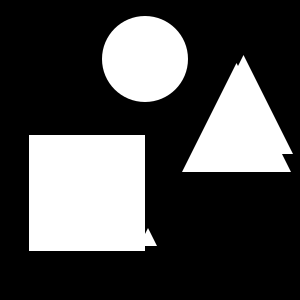circle: (29, 135, 145, 251)
rectangle: (102, 16, 188, 102)
triangle: (182, 63, 291, 172), (194, 55, 293, 154), (139, 228, 157, 246)
